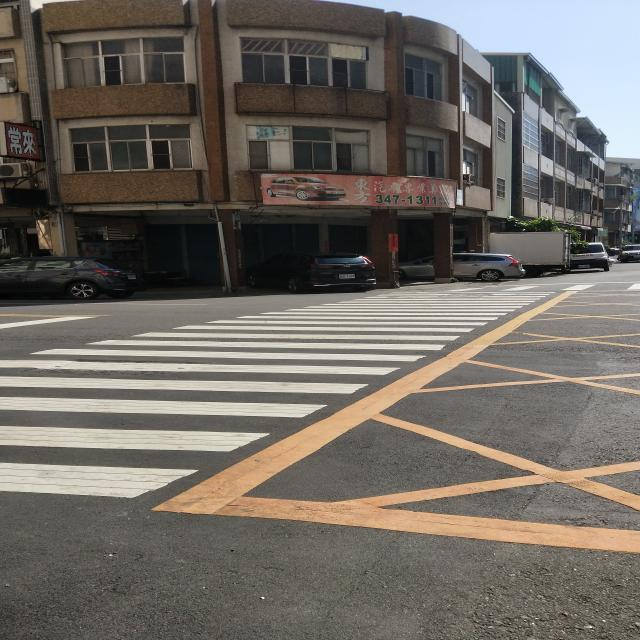zebra_crossing: (0, 248, 66, 640)
